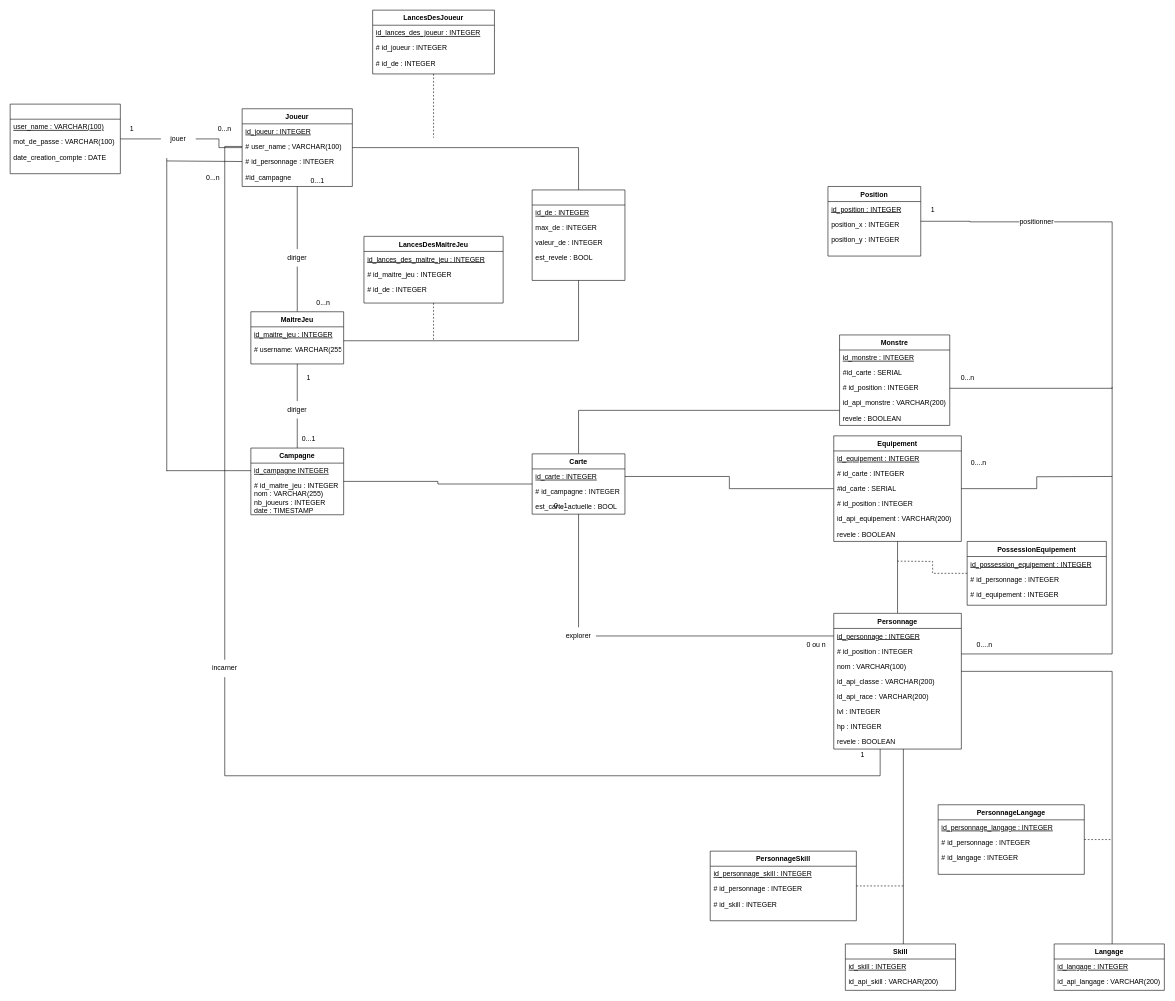
This 1175x1001 diagram has some shape labels left out. The box of each missing label's shape, as (x1, y1, x2, y2) in pixels:
De: (532, 189, 625, 280)
Utilisateur: (10, 104, 120, 174)
